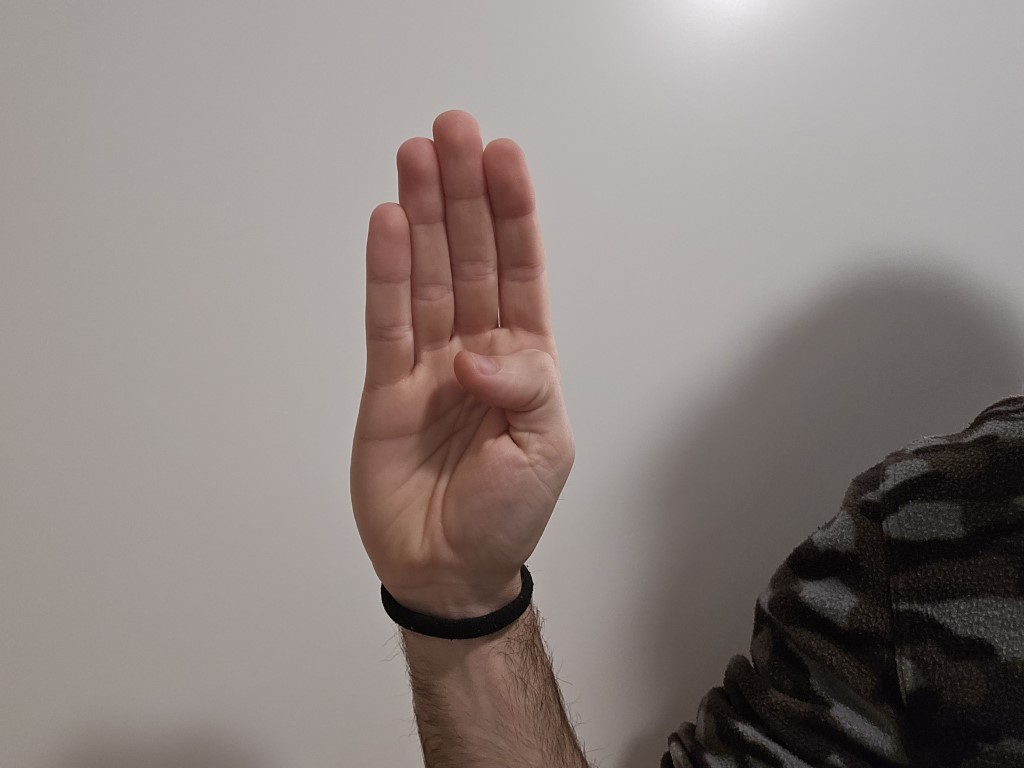b: (298, 96, 604, 611)
